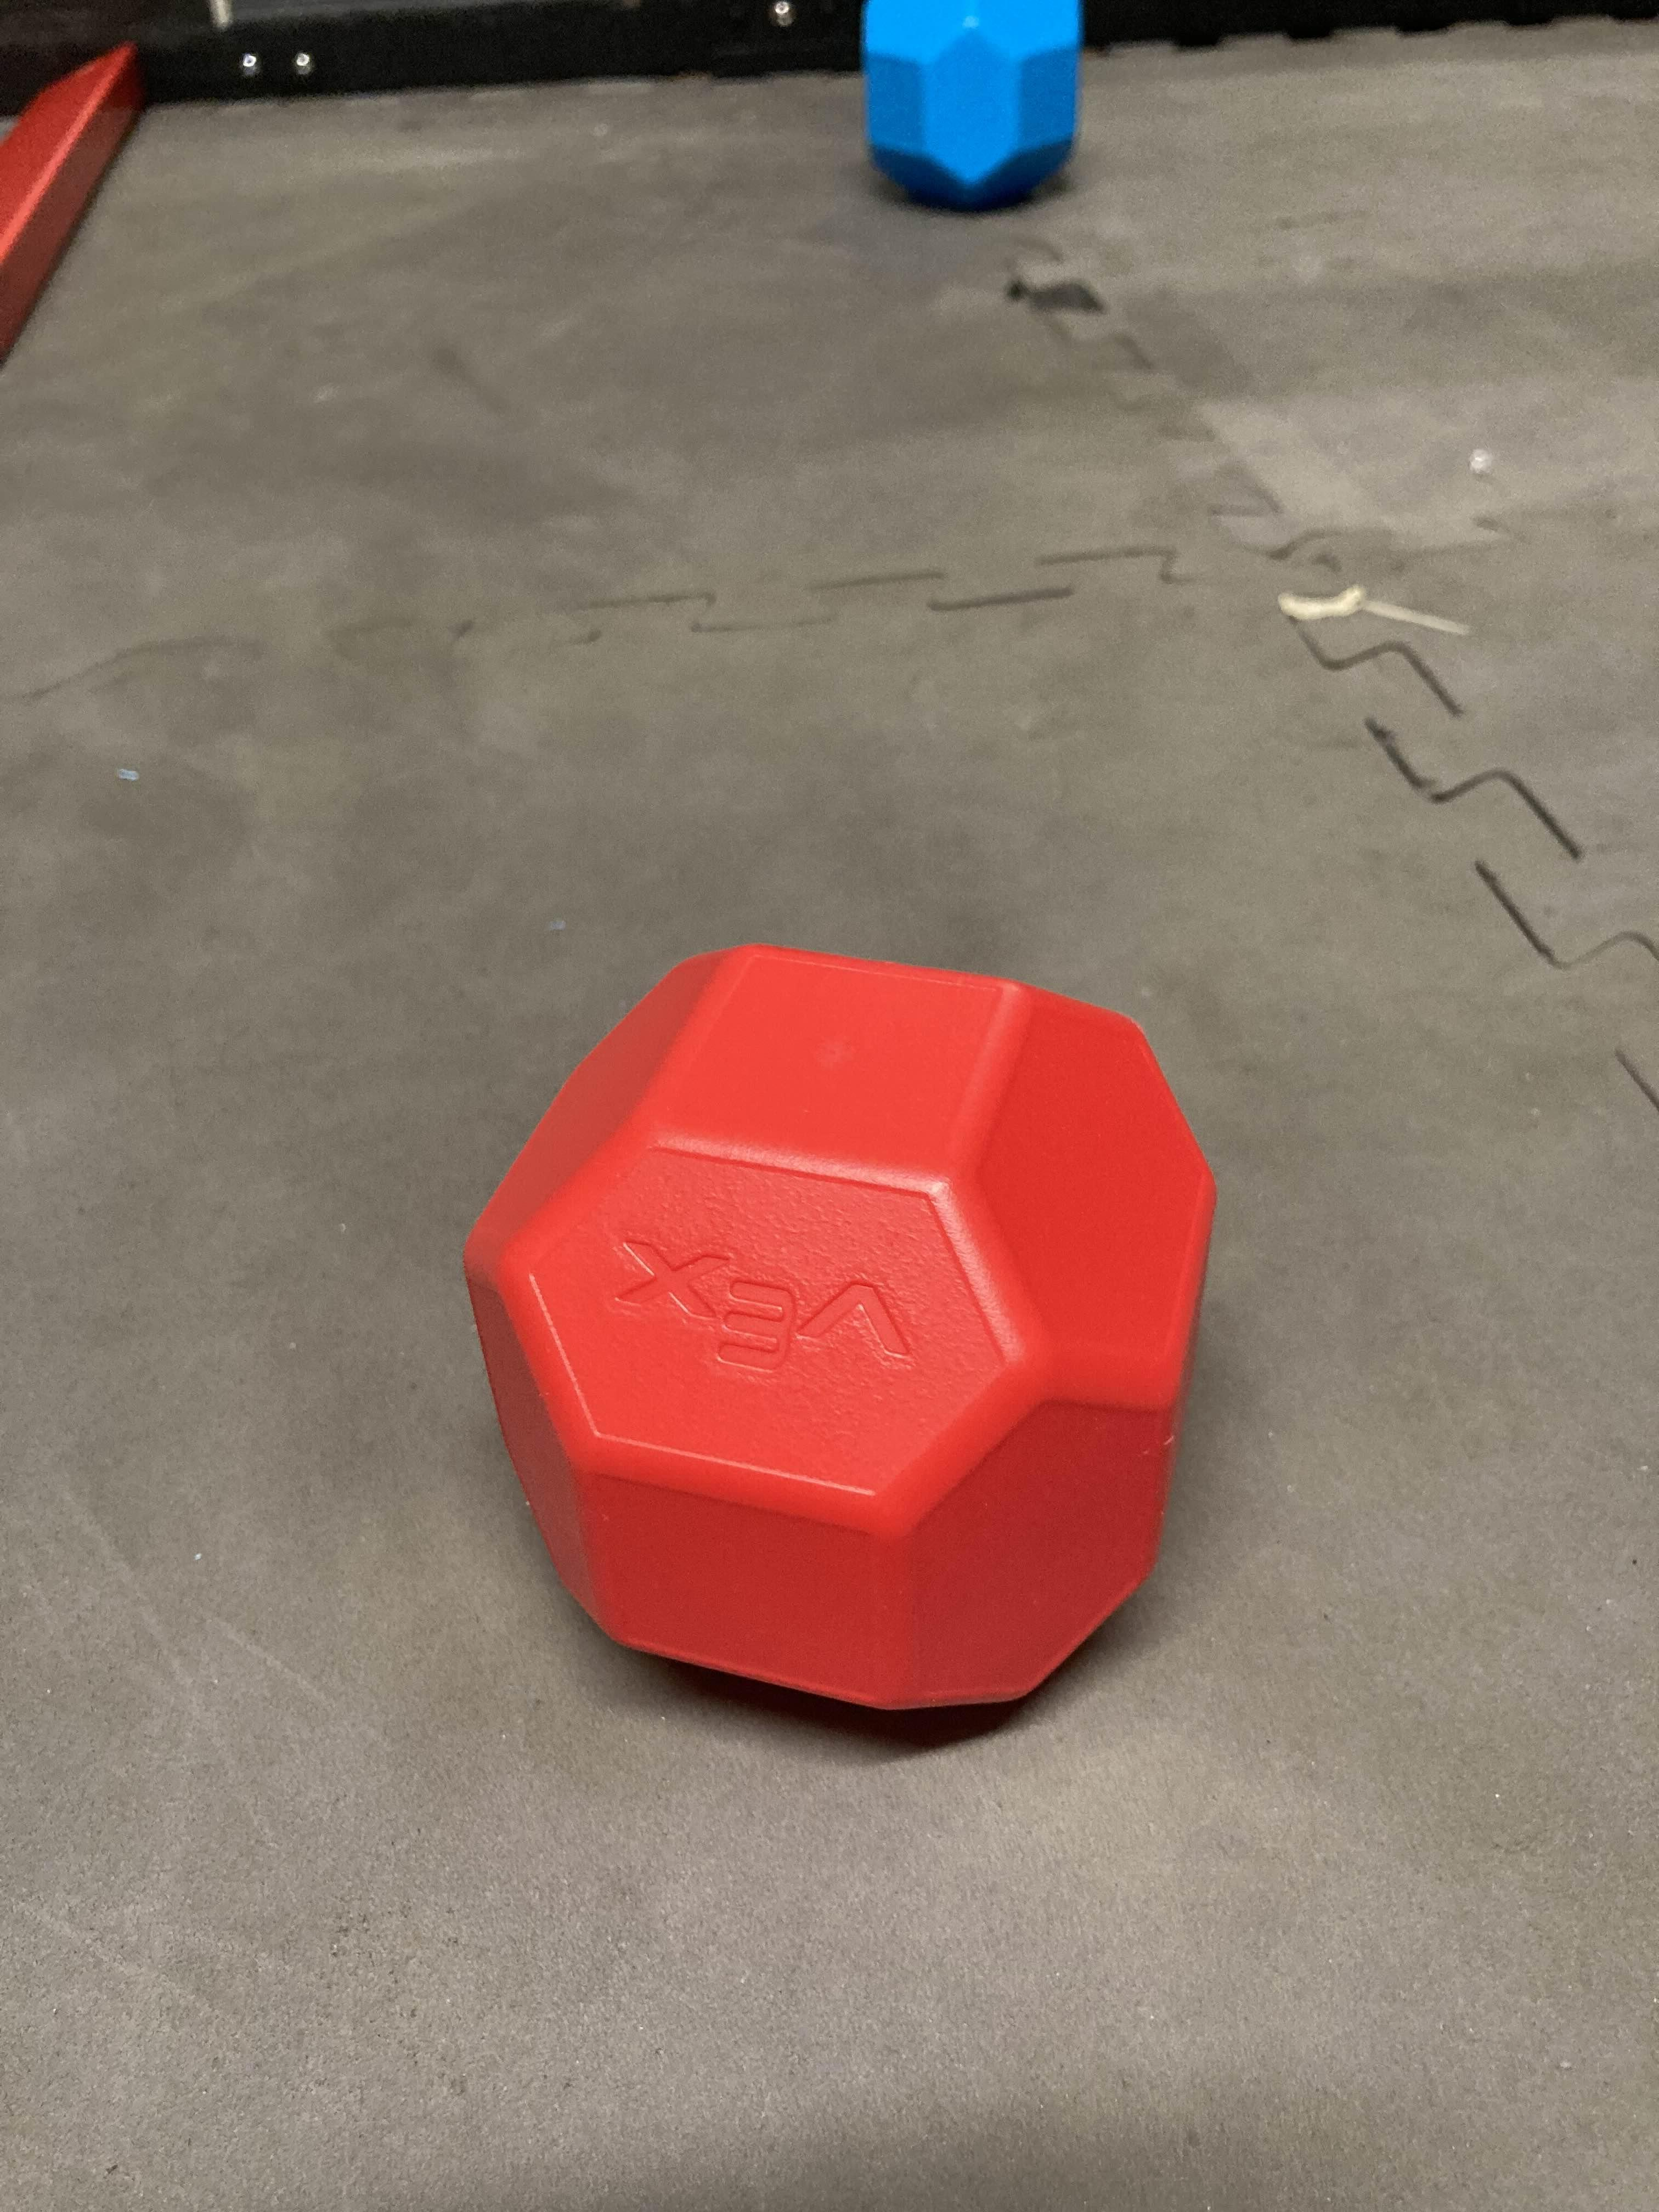Vex-Pieces-BLUE: (857, 0, 1084, 216)
Vex-Pieces-RED: (457, 946, 1218, 1728)
